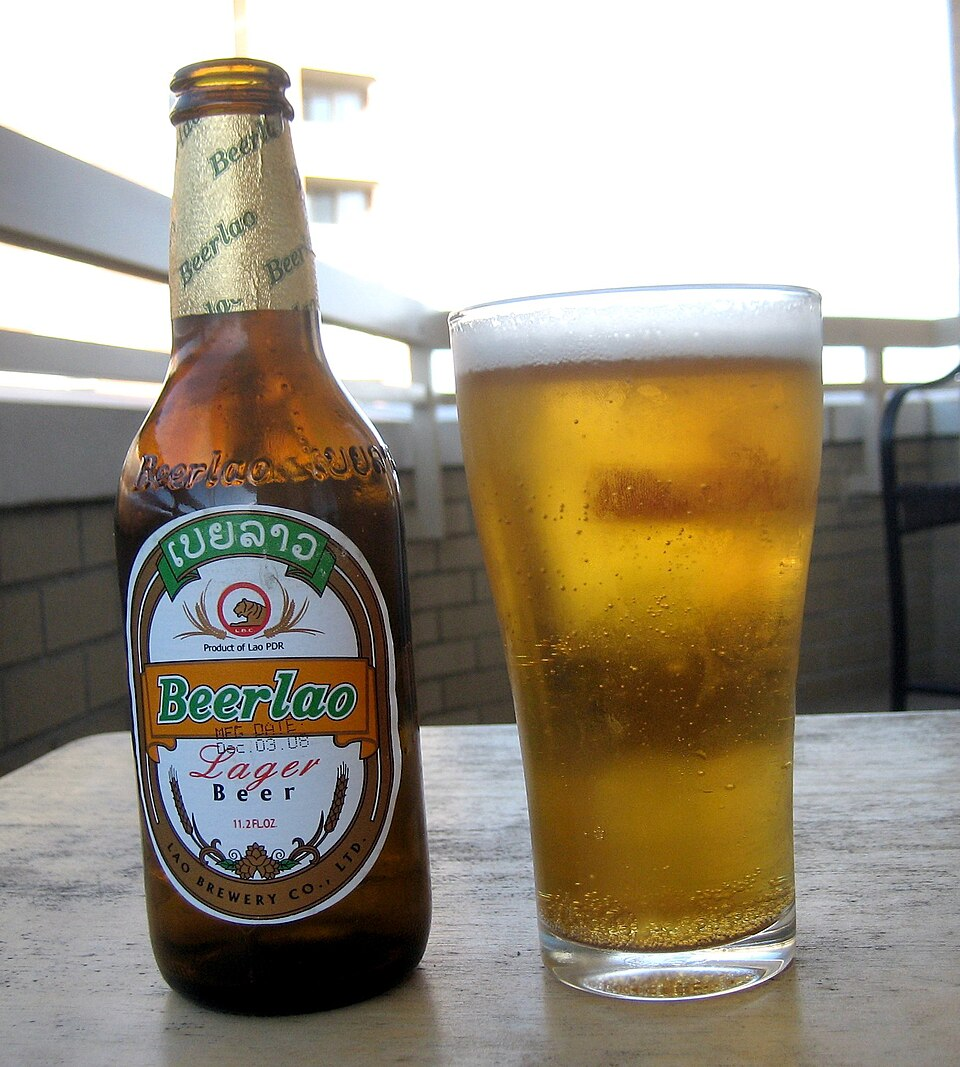beer-bottle: (107, 33, 439, 1034)
